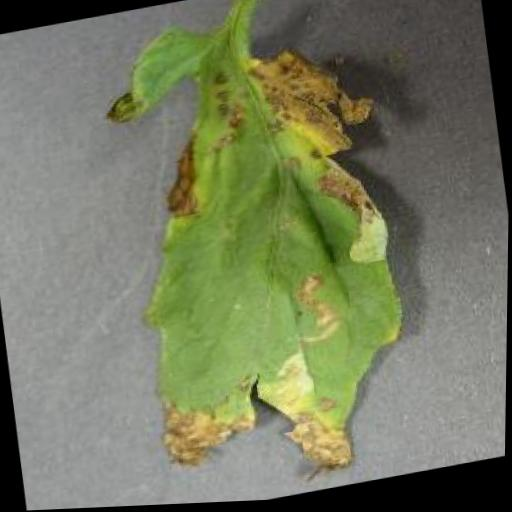Bacterial Spot: (86, 0, 435, 509)
